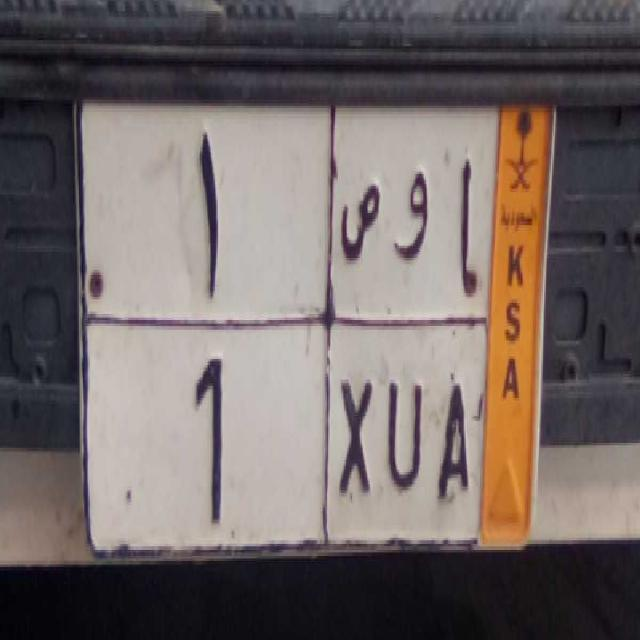license_plate: (85, 314, 482, 550)
